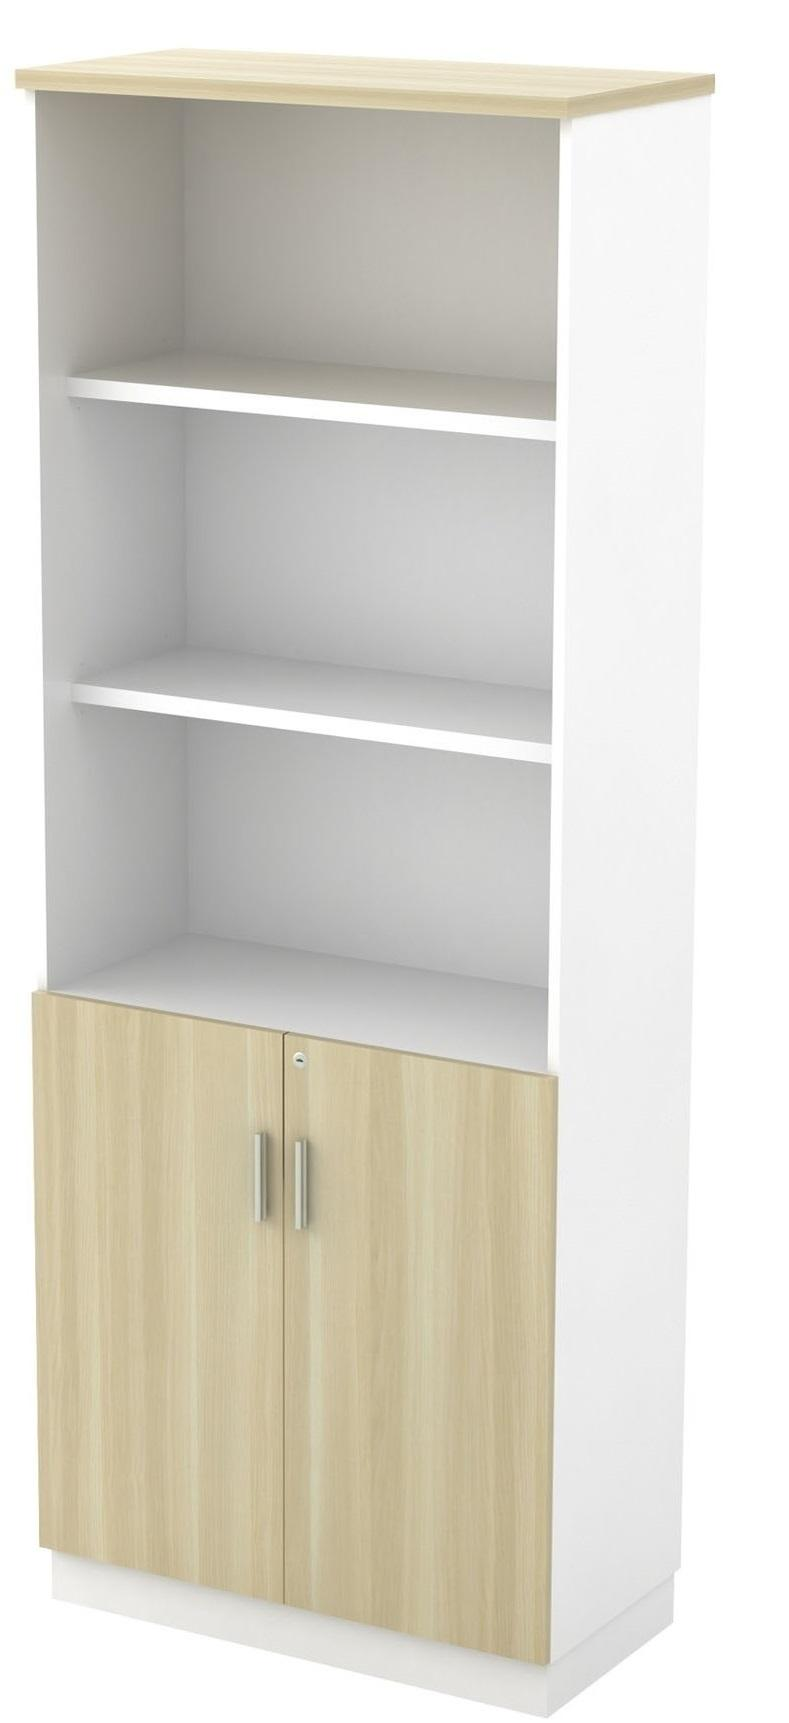cabinet_door: (285, 1046, 554, 1613), (38, 1022, 279, 1570)
handle: (248, 1119, 274, 1244), (292, 1130, 315, 1247)
